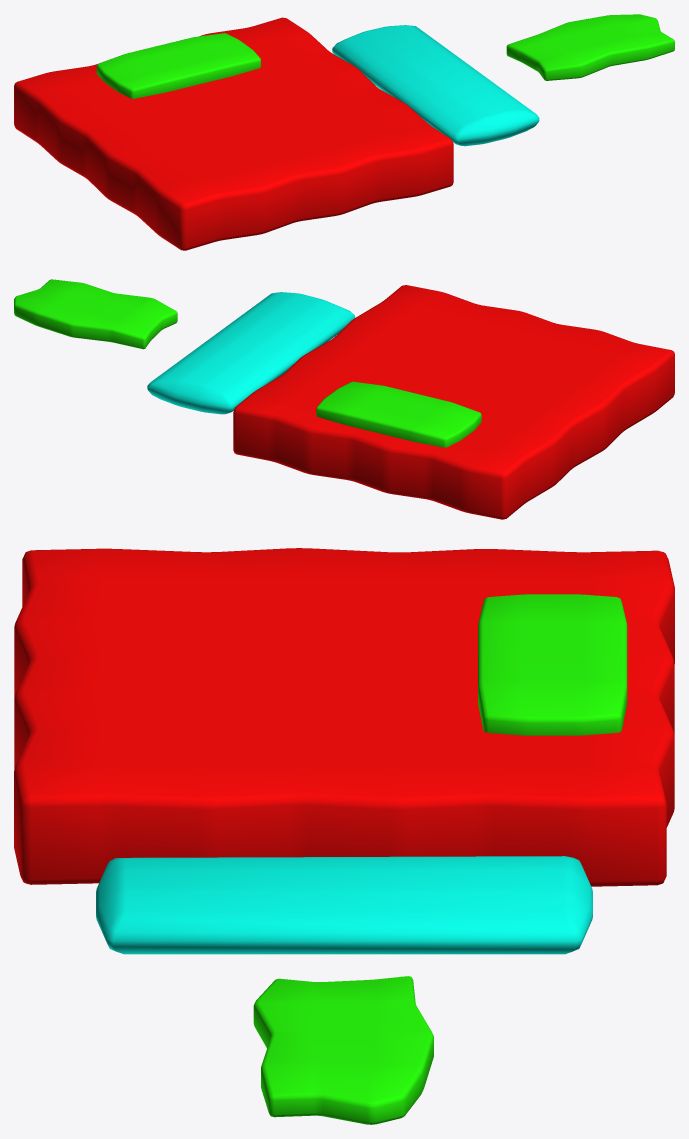
The model's file is umgebung_roy_bett_low.FBX.
3 renders of one model, top to bottom at view 1: azimuth 30°, elevation 25°; view 2: azimuth 150°, elevation 25°; view 3: azimuth 270°, elevation 25°, orthographic. The views are drawn at different scales.
Parts seen in each view (by area): view 1: Bett, Dakimakura, Kissen Unordentlich, Kissen Ordentlich; view 2: Bett, Dakimakura, Kissen Unordentlich, Kissen Ordentlich; view 3: Bett, Dakimakura, Kissen Unordentlich, Kissen Ordentlich.
Boxes of the visible parts, left/top/right/bottom form: Bett: left=14, top=17, right=453, bottom=250; Dakimakura: left=332, top=25, right=539, bottom=146; Kissen Unordentlich: left=506, top=14, right=674, bottom=80; Kissen Ordentlich: left=96, top=33, right=260, bottom=98; Bett: left=233, top=285, right=674, bottom=519; Dakimakura: left=147, top=292, right=355, bottom=414; Kissen Unordentlich: left=14, top=279, right=177, bottom=349; Kissen Ordentlich: left=316, top=381, right=481, bottom=447; Bett: left=14, top=548, right=674, bottom=886; Dakimakura: left=96, top=856, right=592, bottom=954; Kissen Unordentlich: left=253, top=976, right=433, bottom=1124; Kissen Ordentlich: left=478, top=594, right=627, bottom=735.
Size of the model in its own units: 246 by 130 by 24.22.
